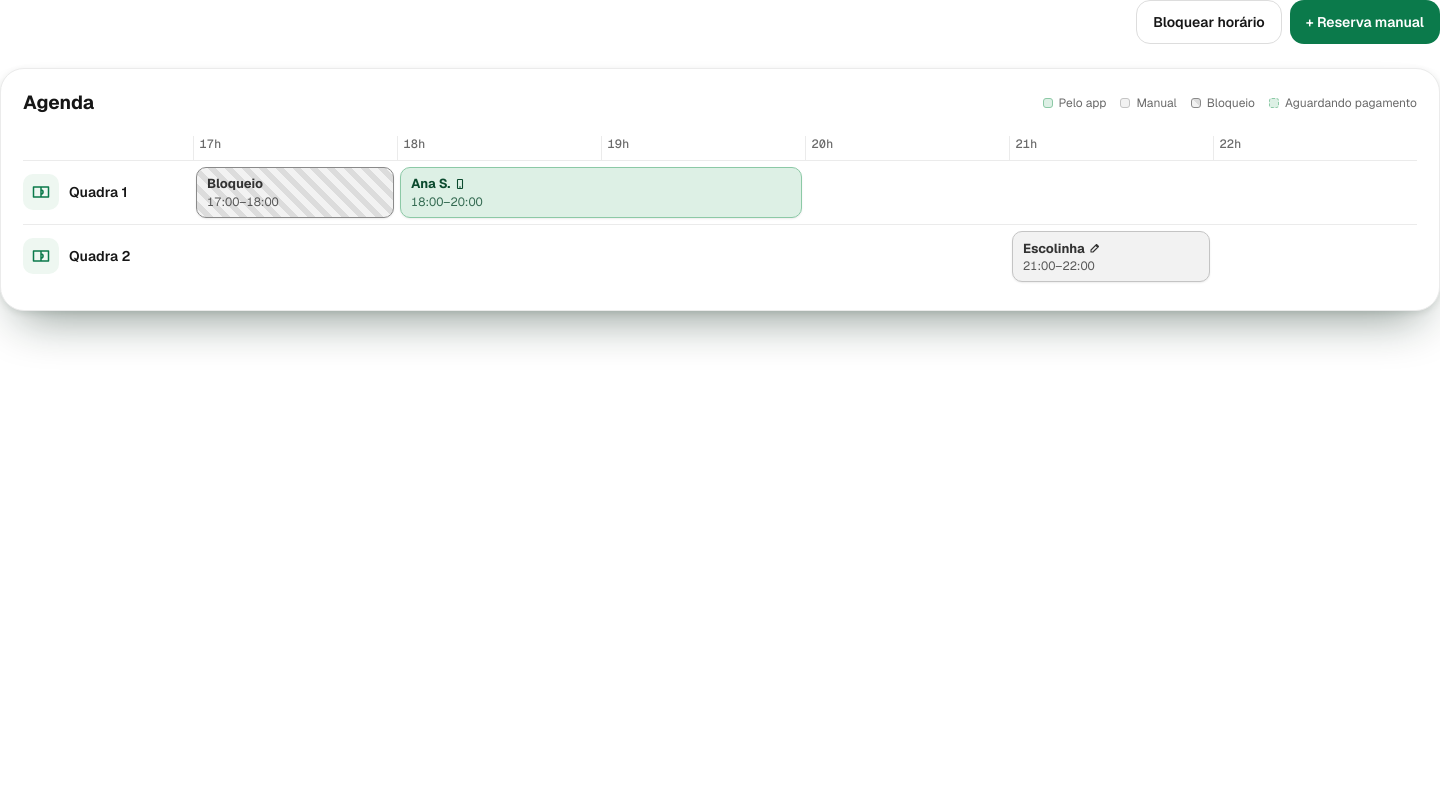
it: AgendaView (wide) › creates a manual booking in the venue zone
Click the button "+ Reserva manual": (1365, 22) 1290,0 -> 1439,44
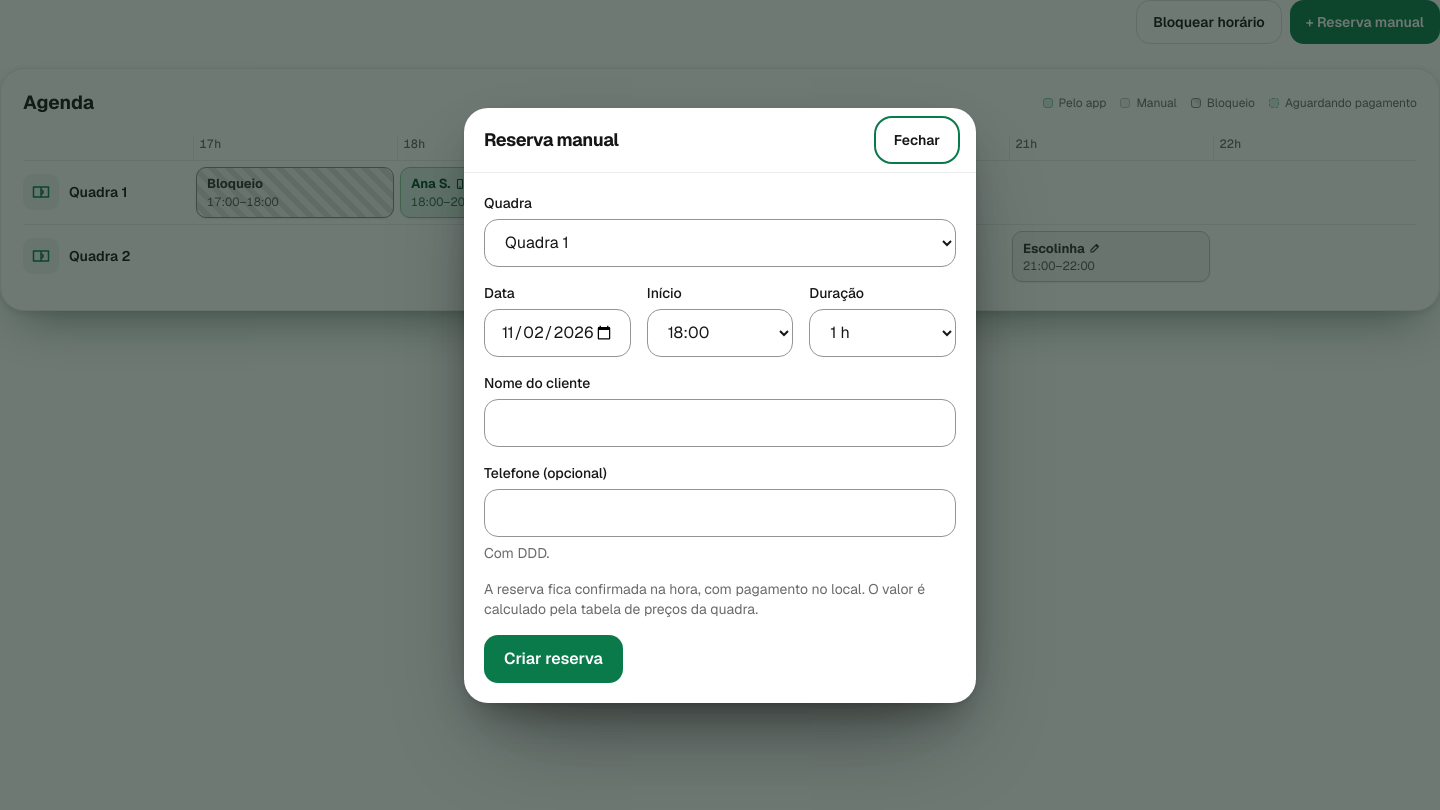
Select "Quadra 2" in the dropdown labelled "Quadra": (720, 242) 484,218 -> 956,266
Select "19:00" in the dropdown labelled "Início": (720, 332) 647,308 -> 793,356
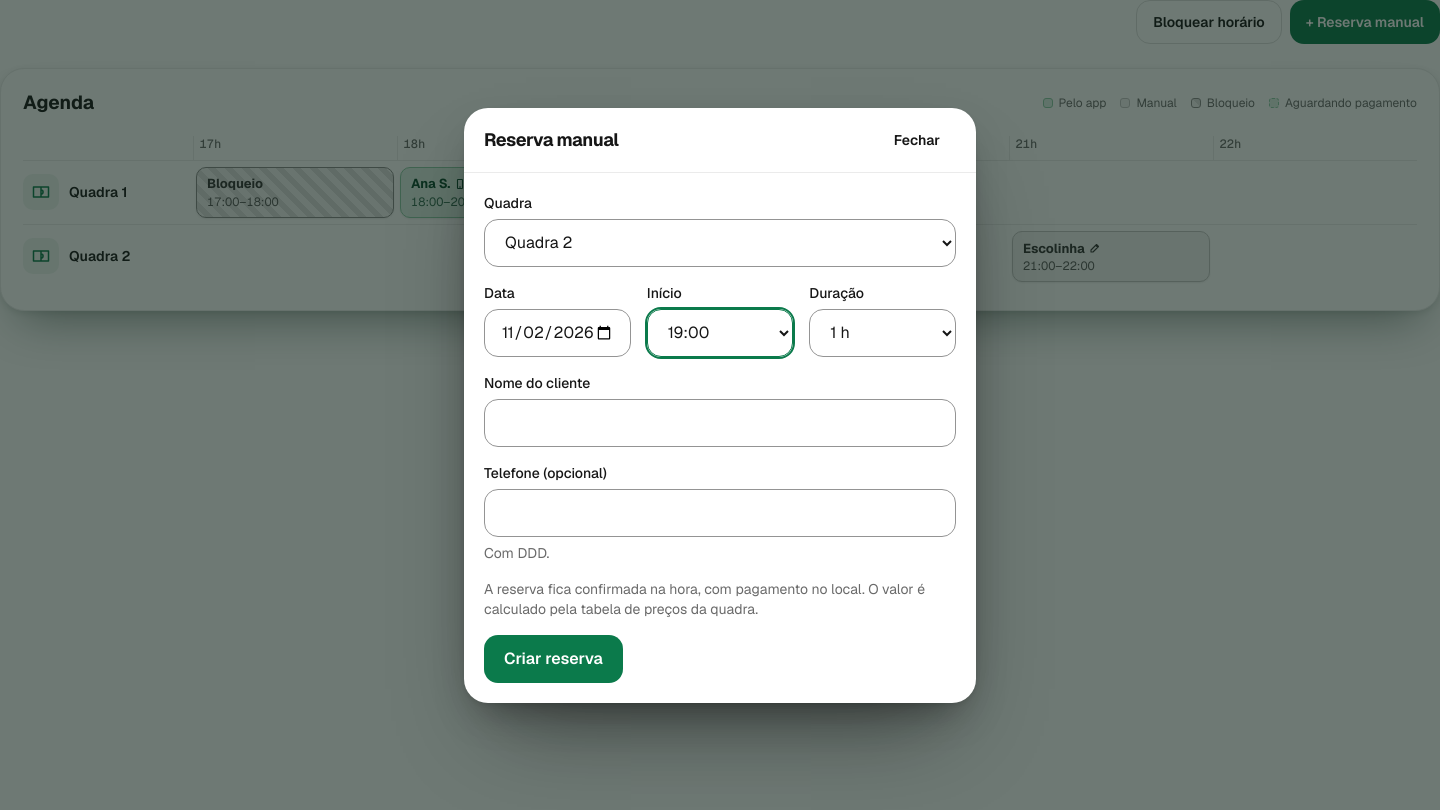
Select "1 h 30" in the dropdown labelled "Duração": (883, 332) 809,308 -> 956,356
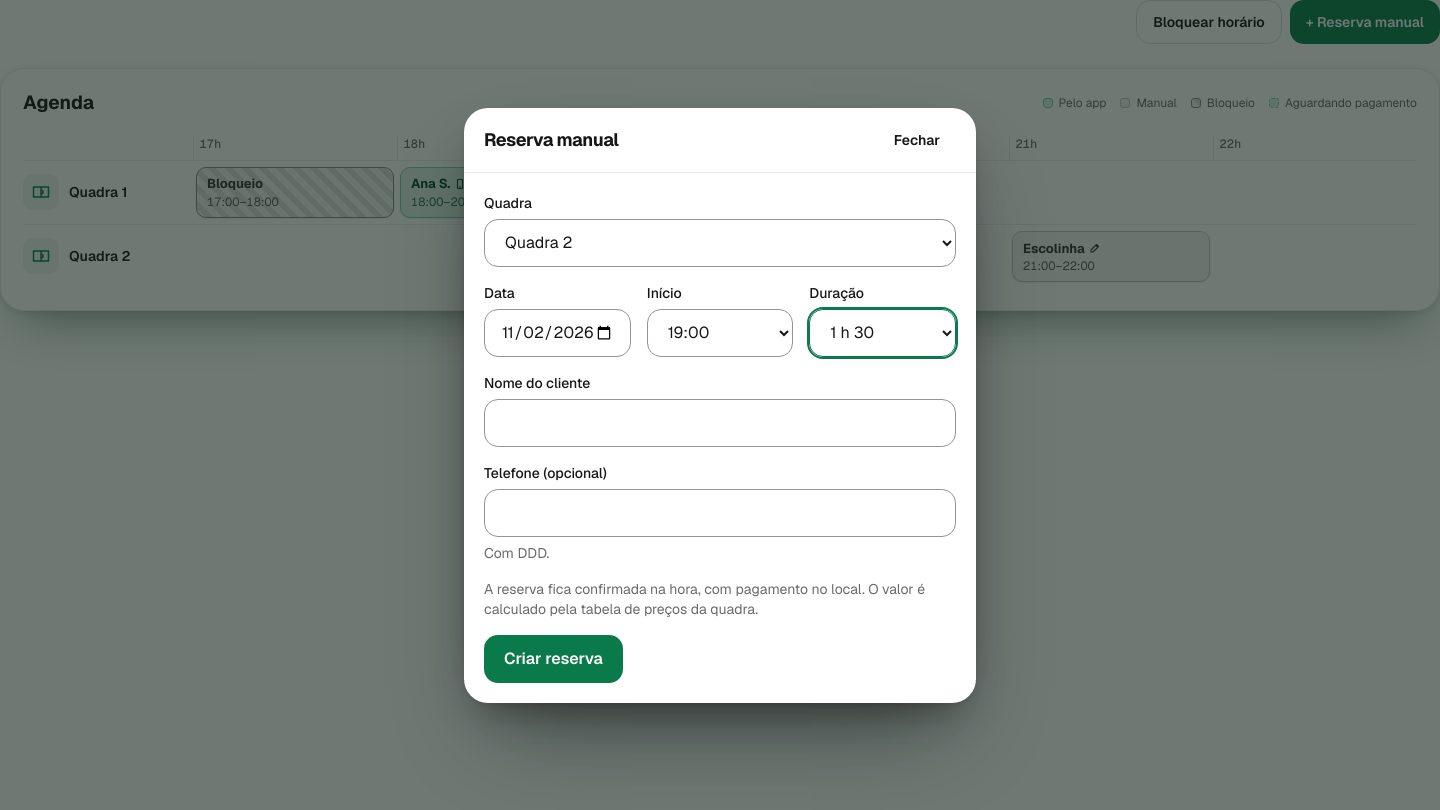
In the field labelled "Nome do cliente": (720, 422) 484,398 -> 956,446, type "Rafa"
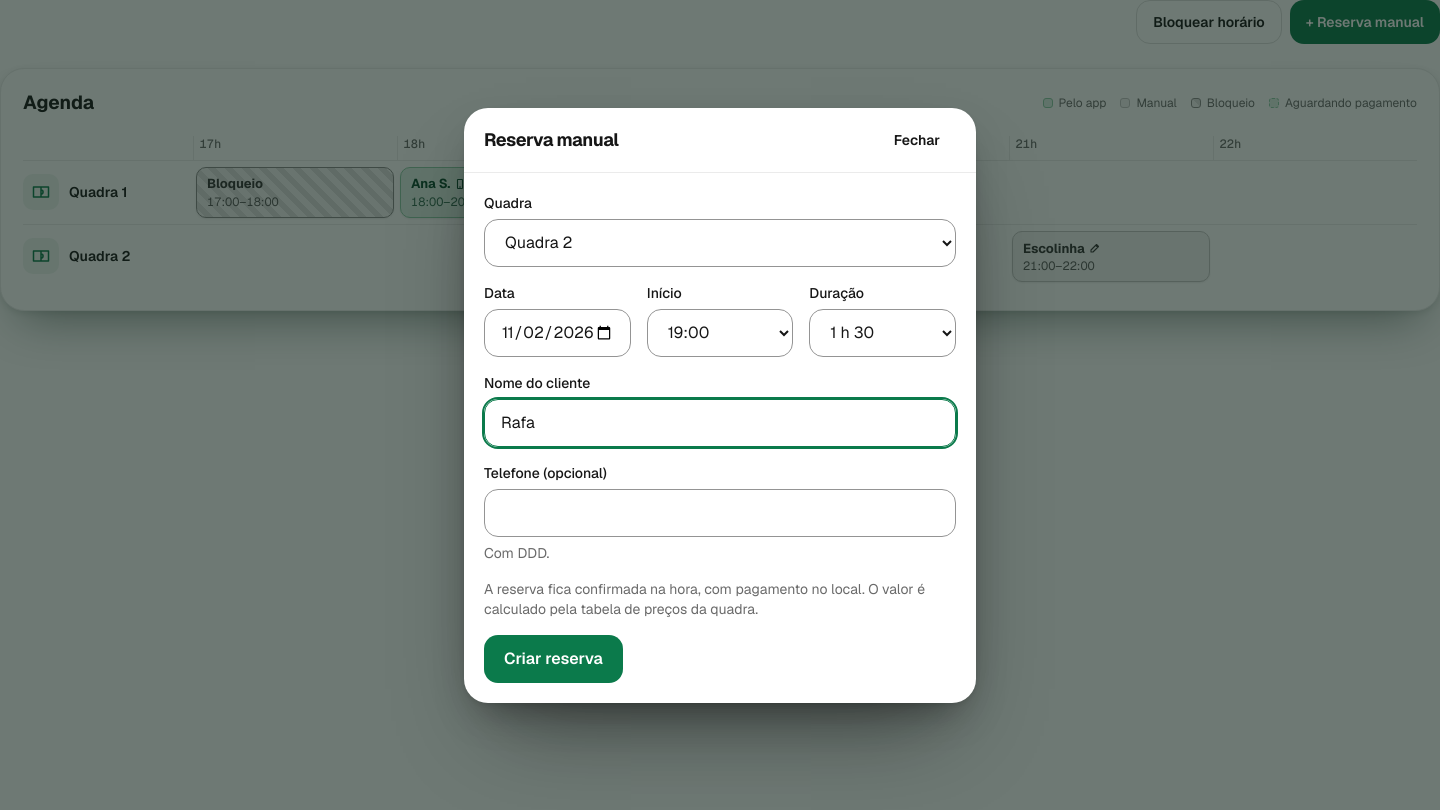
In the field labelled "Telefone (opcional)": (720, 512) 484,488 -> 956,536, type "11987654321"
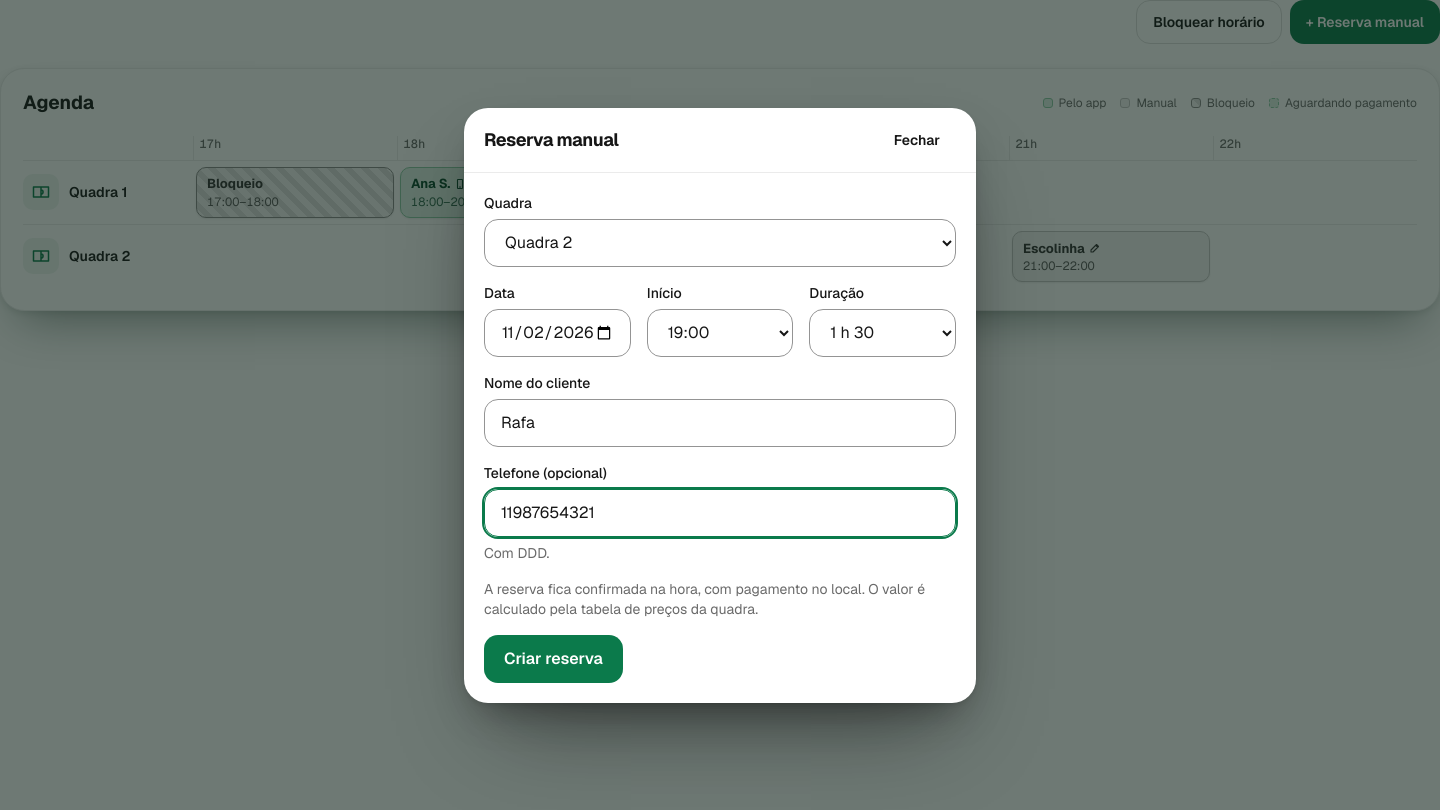
Click the button "Criar reserva": (553, 658) 484,634 -> 623,682
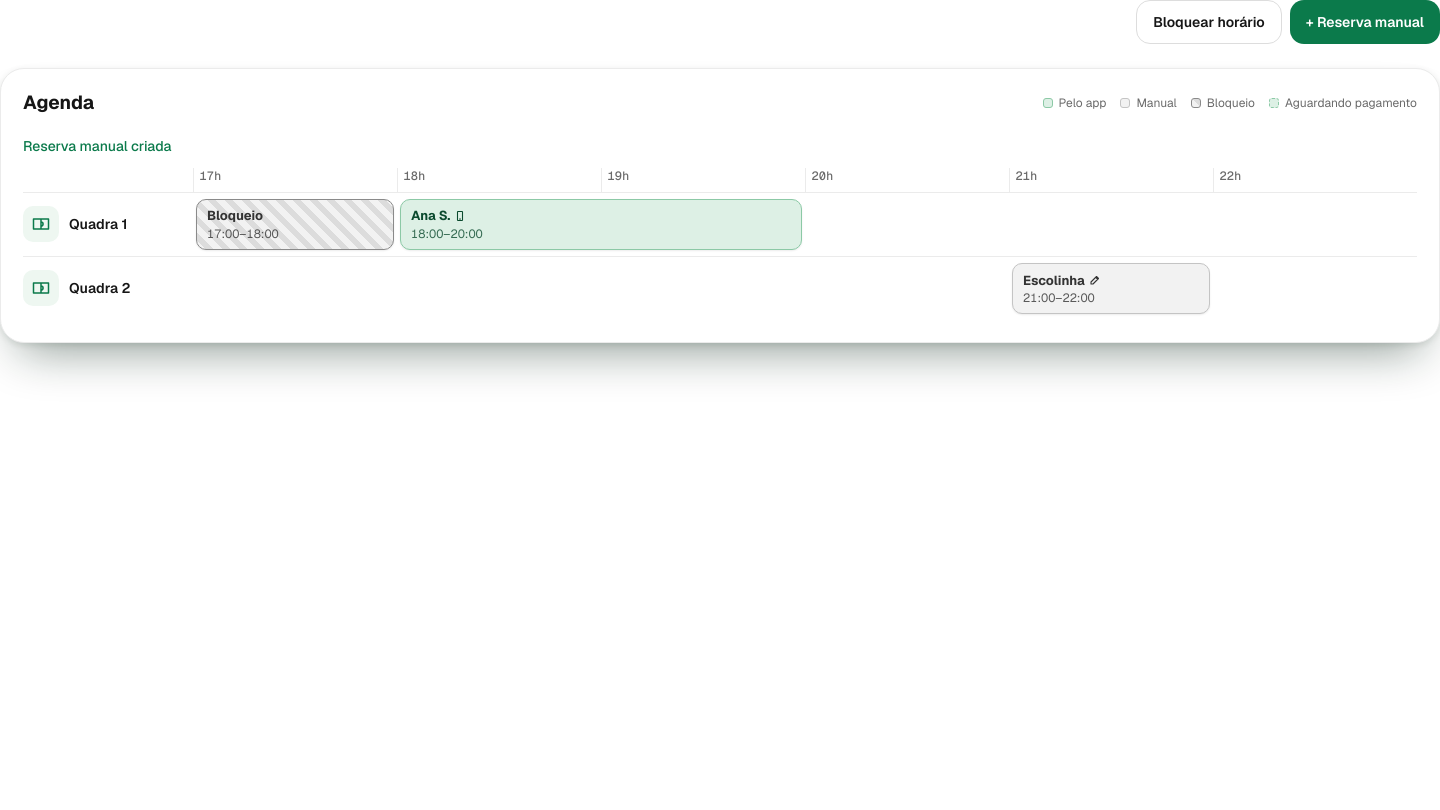
Result: the dialog is gone
Result: the message reads "Reserva manual criada" at 23,136 -> 172,154
